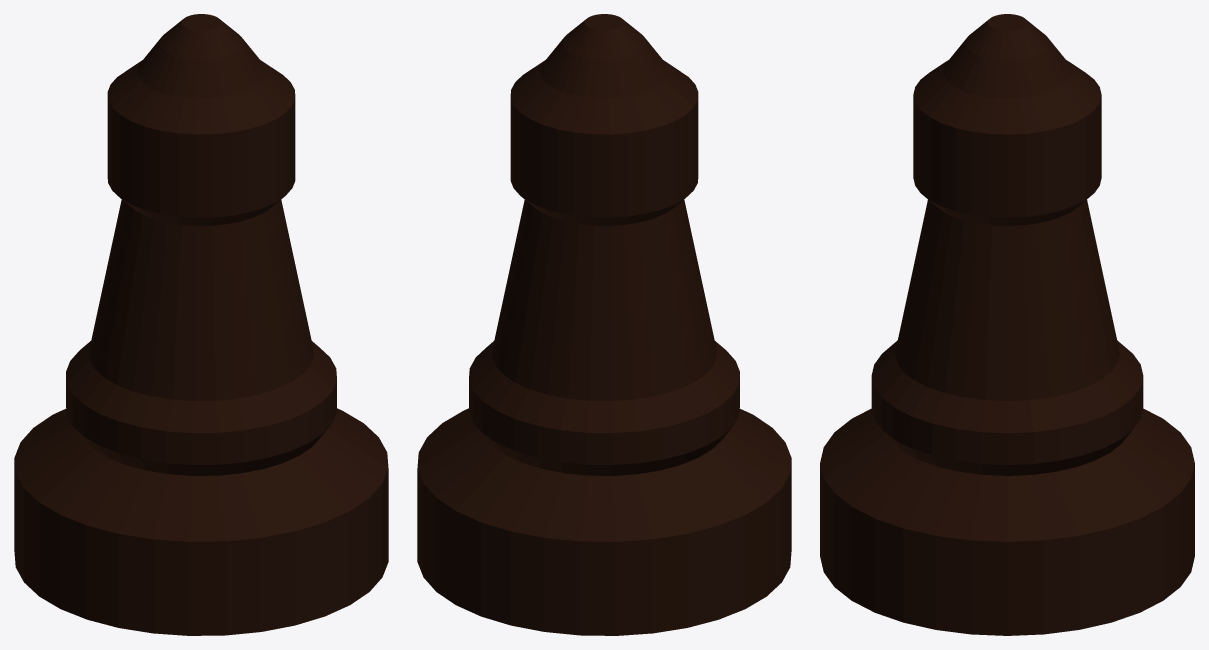
3 views of the same model, side by side, from view 1: azimuth 30°, elevation 25°; view 2: azimuth 150°, elevation 25°; view 3: azimuth 270°, elevation 25° (orthographic).
Visible parts, largest first — view 1: Cylinder; view 2: Cylinder; view 3: Cylinder.
Boxes of the visible parts, x1=… form: Cylinder: x1=14, y1=14, x2=388, y2=635; Cylinder: x1=417, y1=14, x2=791, y2=635; Cylinder: x1=820, y1=14, x2=1194, y2=635.
Bounding box in the file's own units: 0.6164 × 0.97 × 0.6164.
